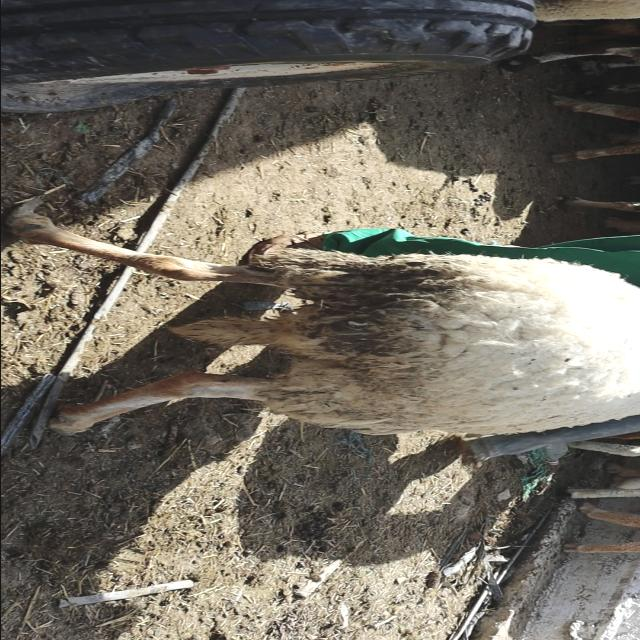Score_5: (7, 200, 640, 435)
